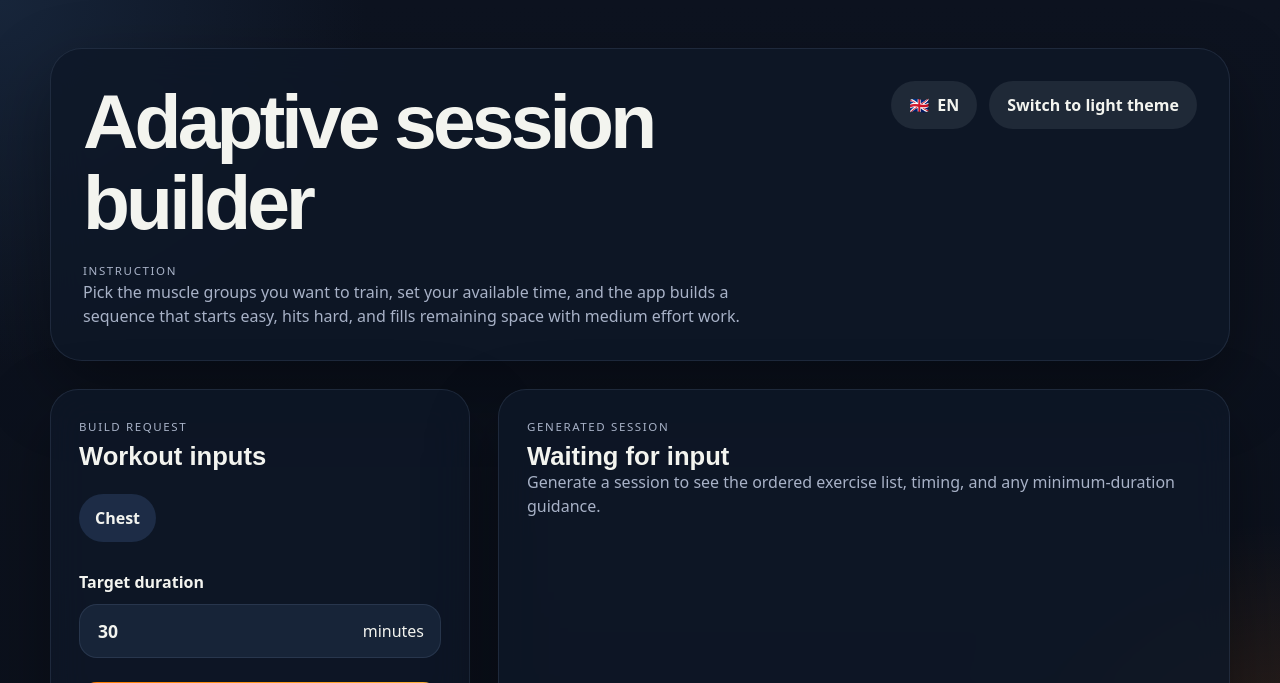
Test case: App › switches interface language to chinese
Expected: the button "Chest" is shown, [79, 494, 156, 542]
Click the button with aria-label "Language" at (934, 105), box [891, 81, 977, 129]
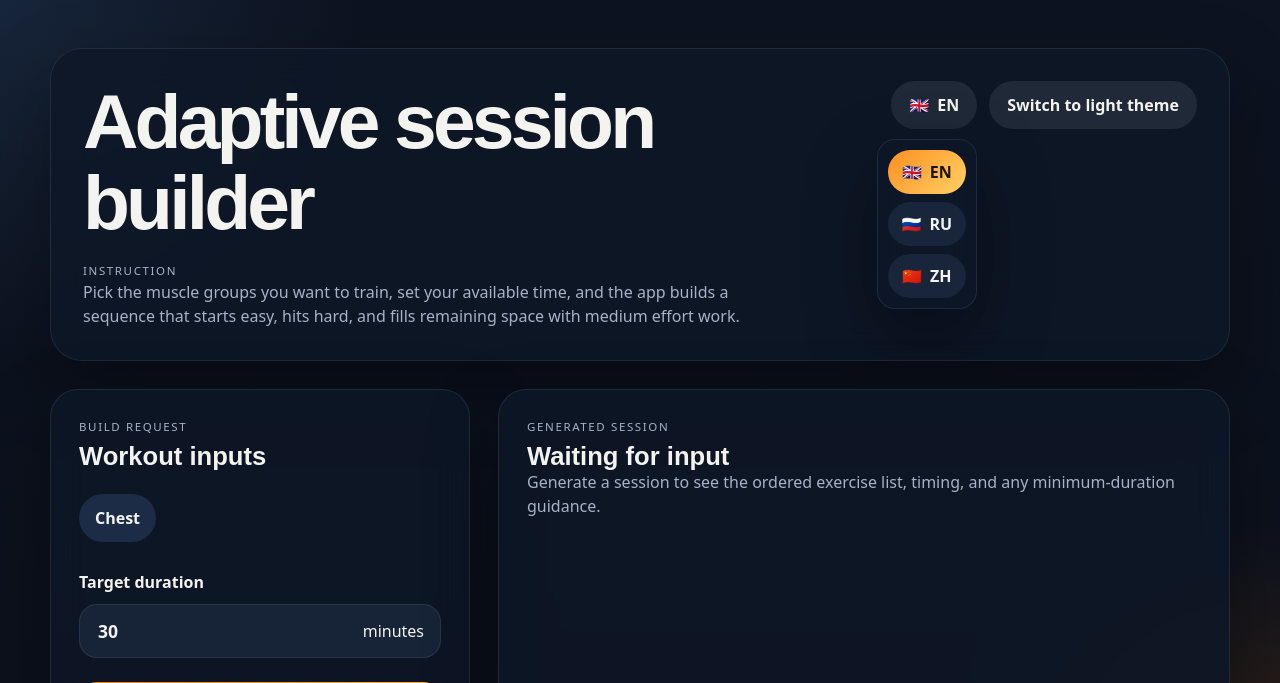
Click the button named "🇨🇳zh" at (927, 276), box [888, 254, 966, 298]
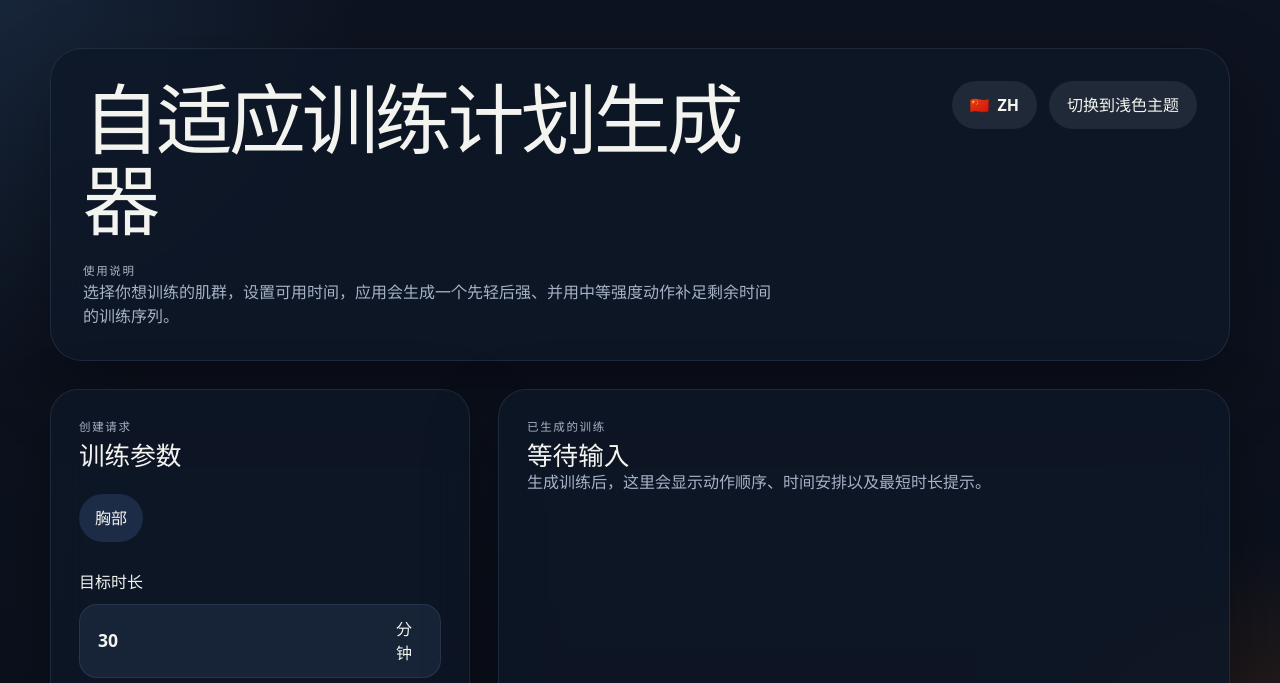
Result: the button "胸部" is shown at [79, 494, 143, 542]
Result: the heading "自适应训练计划生成器" is shown at [83, 81, 783, 242]
